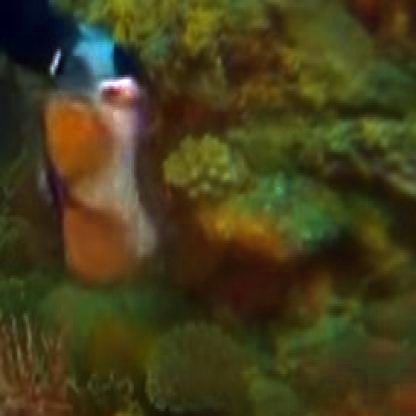plastic: (21, 65, 189, 297)
